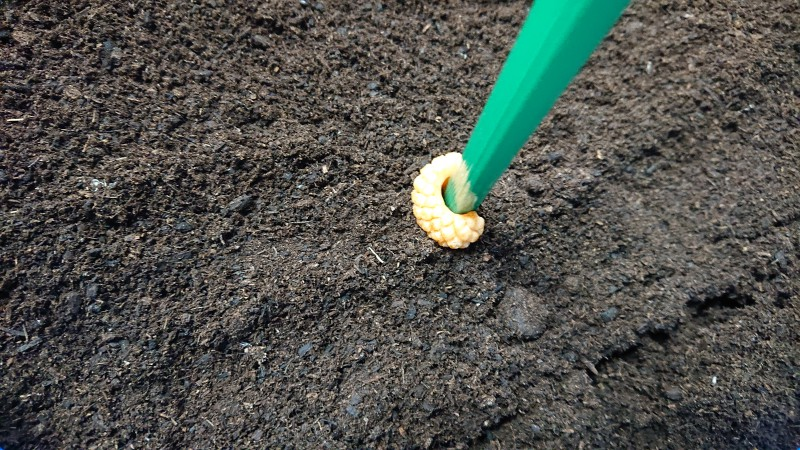eggs: (410, 149, 486, 252)
